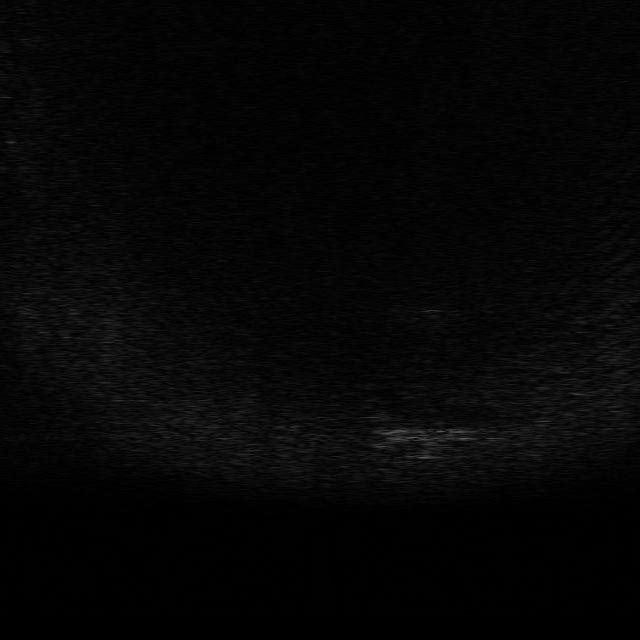plane: (370, 421, 485, 461)
